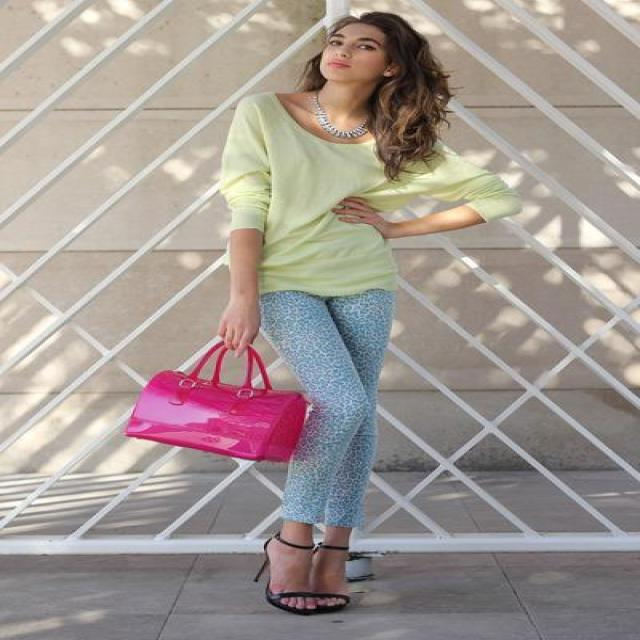bag: (123, 345, 309, 462)
pants: (261, 288, 392, 524)
shirt: (202, 82, 538, 296)
shoe: (266, 538, 363, 614)
